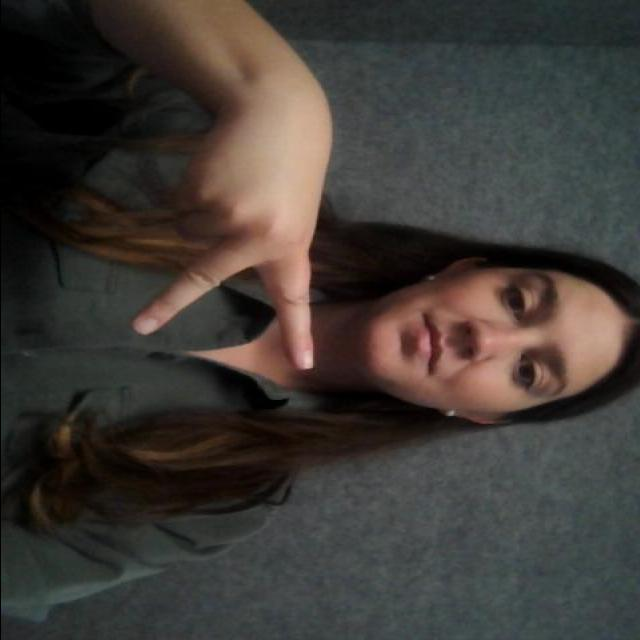Scissors: (126, 86, 342, 373)
